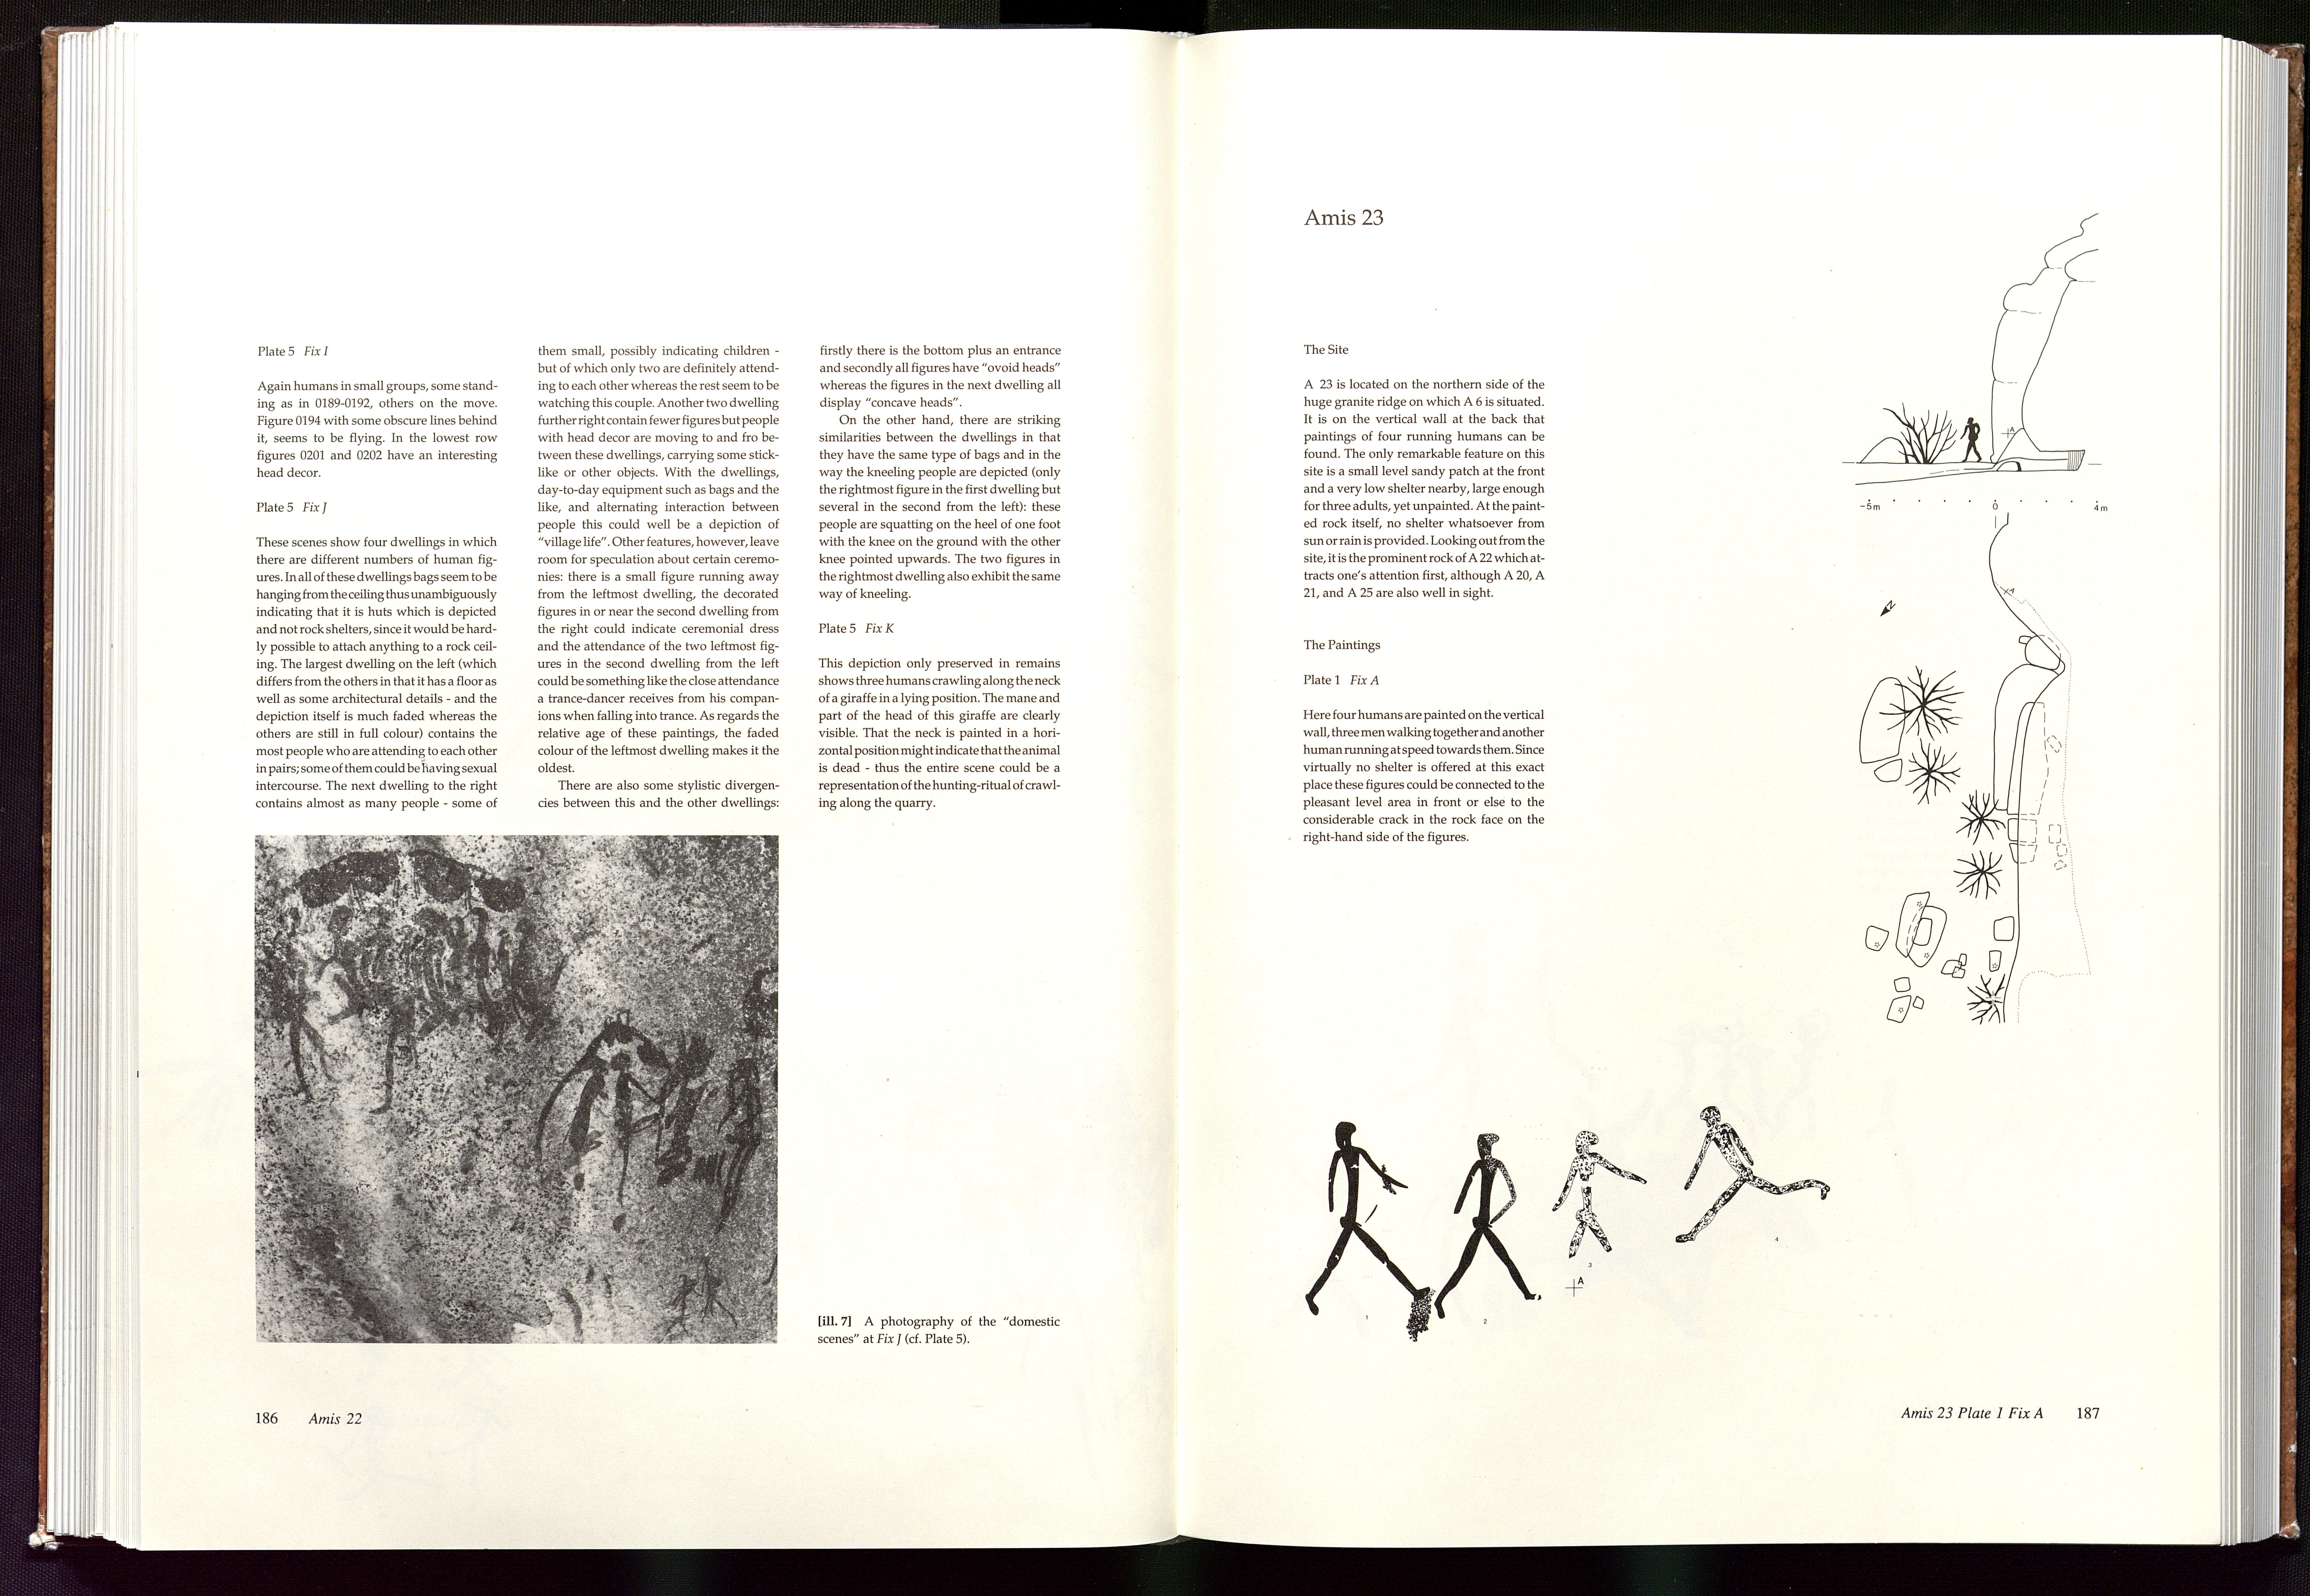human: (1308, 1116, 1426, 1332), (1669, 1104, 1836, 1251), (1433, 1130, 1546, 1322), (1546, 1133, 1650, 1300)
